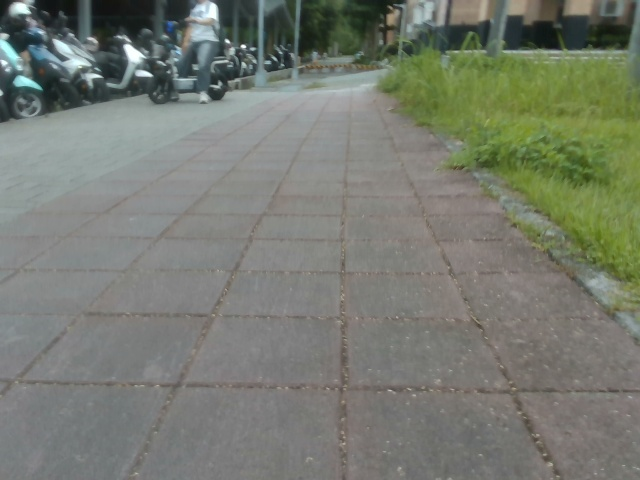grass: (370, 26, 639, 305), (220, 0, 410, 68)
road: (0, 72, 639, 479)
